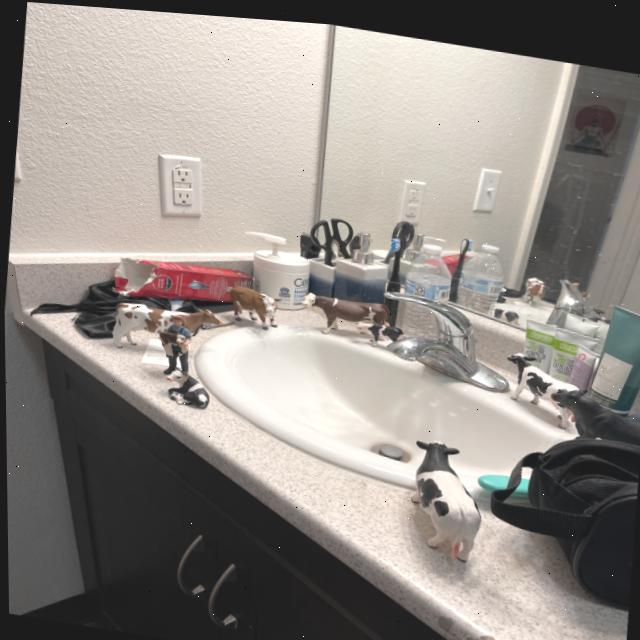cow: (392, 423, 491, 563), (540, 370, 640, 454), (489, 340, 586, 422), (105, 282, 222, 346), (298, 287, 389, 331), (156, 363, 214, 414), (222, 279, 282, 328), (354, 315, 402, 338), (157, 324, 188, 355)
person: (163, 310, 192, 334)
